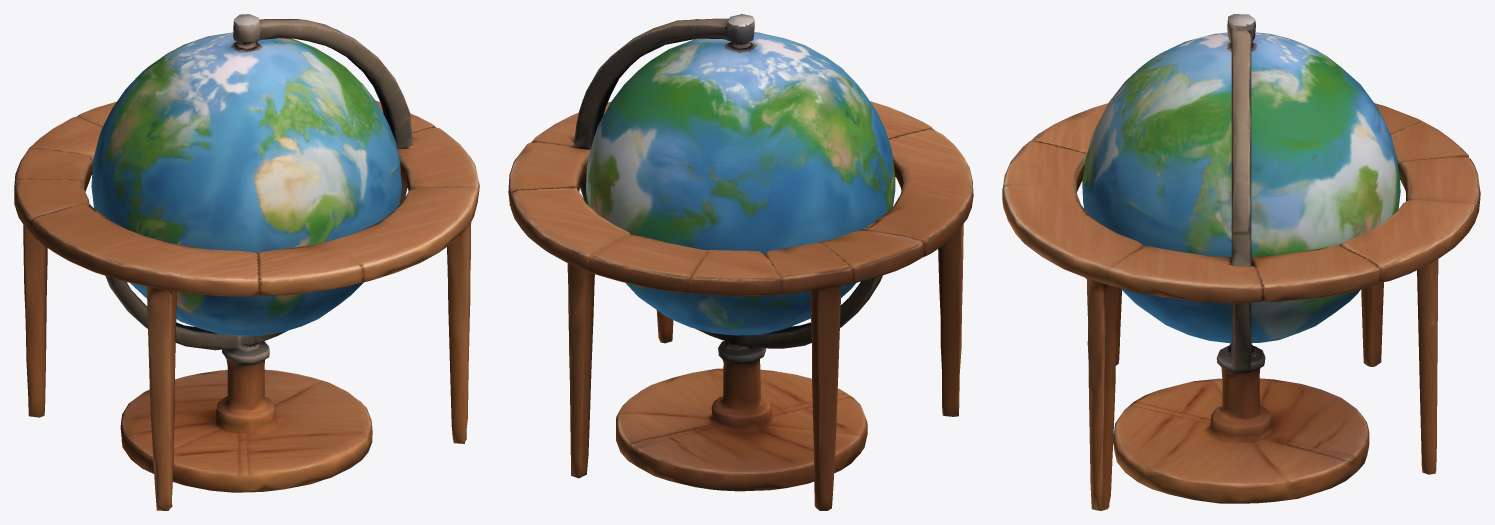
Rendered from library_GlobeTable.glb.
The picture shows the model from 3 angles, left to right: view 1: azimuth 30°, elevation 25°; view 2: azimuth 150°, elevation 25°; view 3: azimuth 270°, elevation 25°; orthographic projection. The views are drawn at different scales.
Visible parts, largest first — view 1: world; view 2: world; view 3: world.
Part boxes in pixels (bbox=[...]): world: bbox=[14, 14, 479, 510]; world: bbox=[508, 14, 973, 510]; world: bbox=[1002, 14, 1480, 510].
Size of the model in its own units: 0.9996 by 0.9989 by 0.9992.
Materials: 1 (1 with a texture image).
